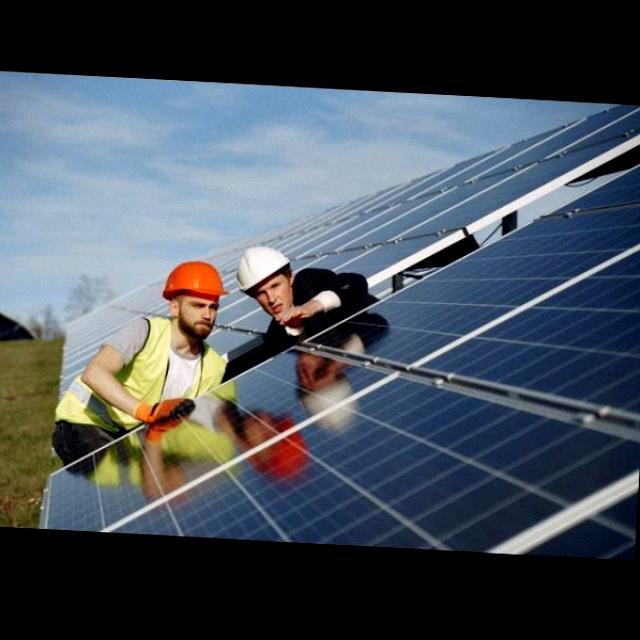helmet: (240, 418, 310, 475), (296, 384, 360, 434), (162, 255, 232, 298), (232, 244, 293, 291)
safety_vest: (53, 313, 226, 435), (74, 376, 242, 496)
